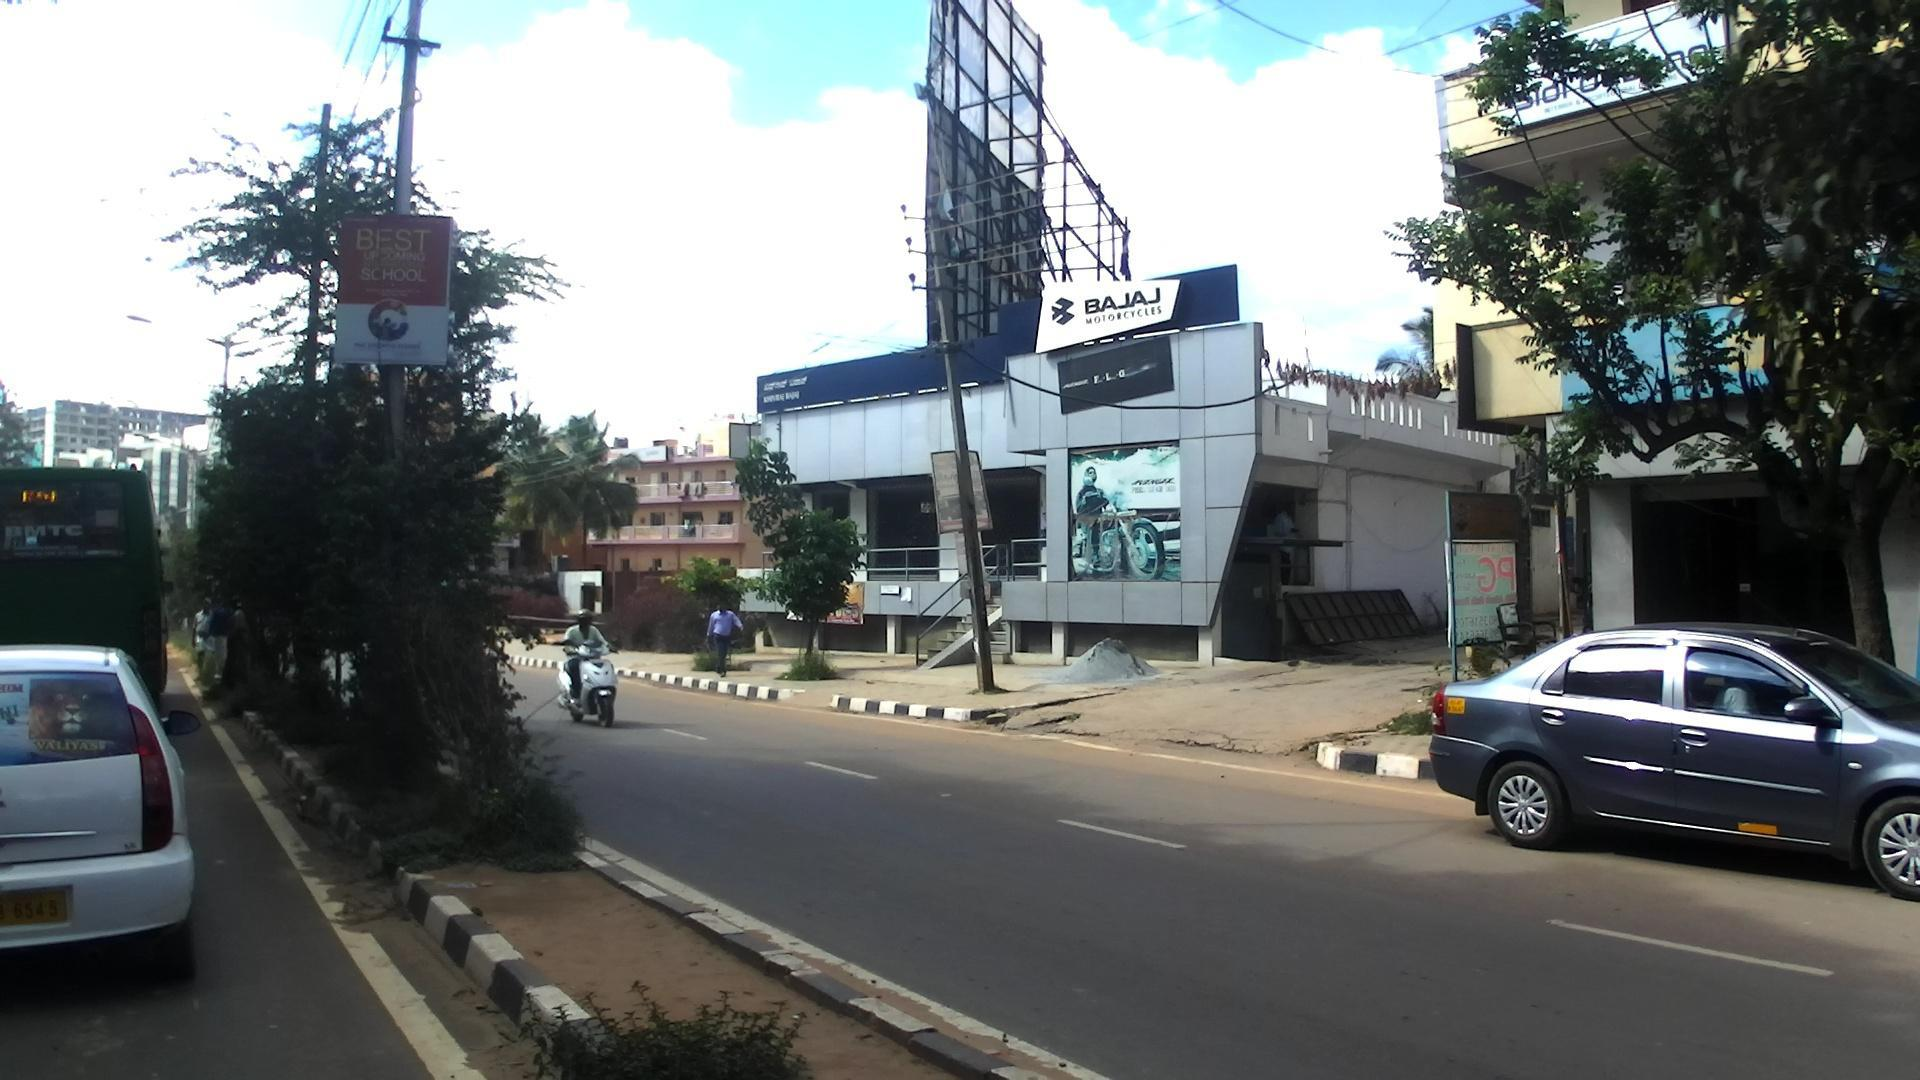off: (50, 0, 1920, 1080)
